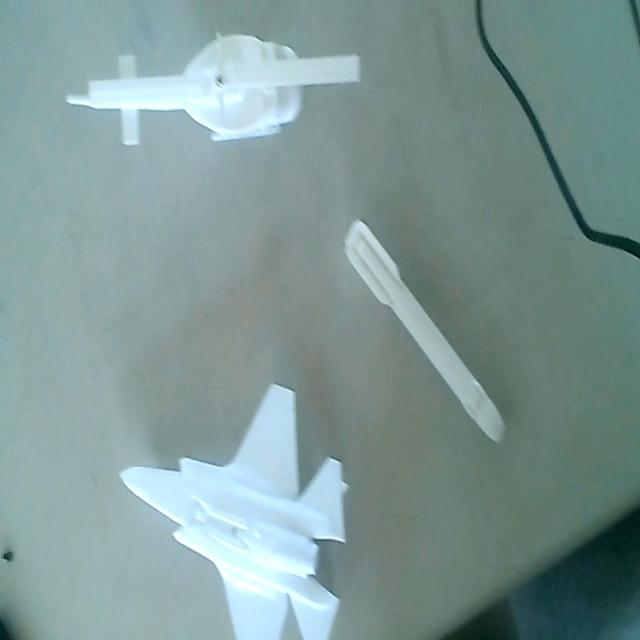Helicopter: (62, 27, 364, 155)
Jet: (120, 379, 348, 640)
Rocket: (342, 210, 508, 447)
